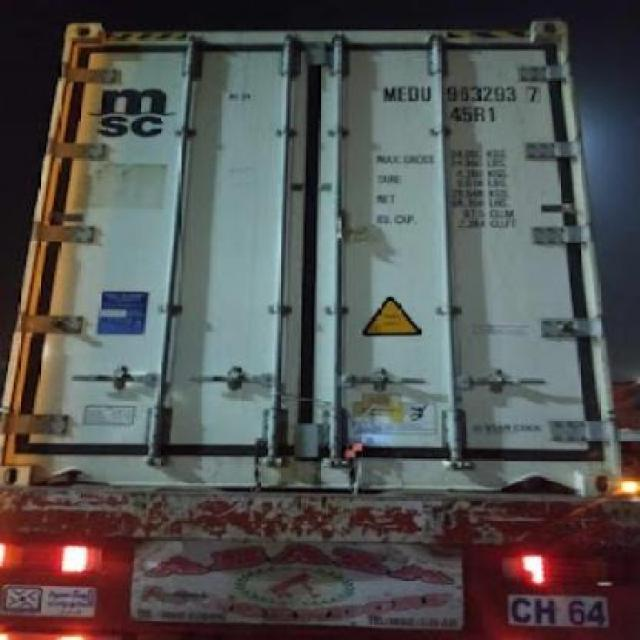ISO: (450, 105, 498, 124)
container_number: (386, 85, 537, 104)
